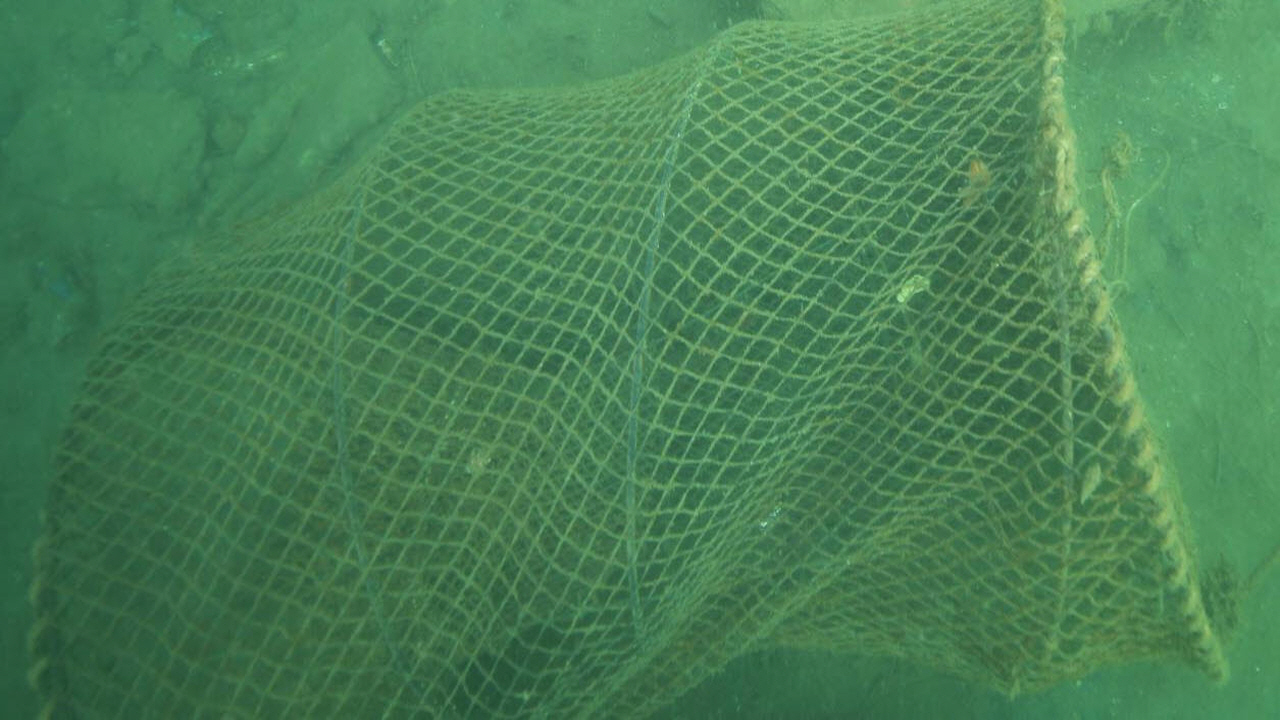spring fish trap: (23, 2, 1232, 720)
